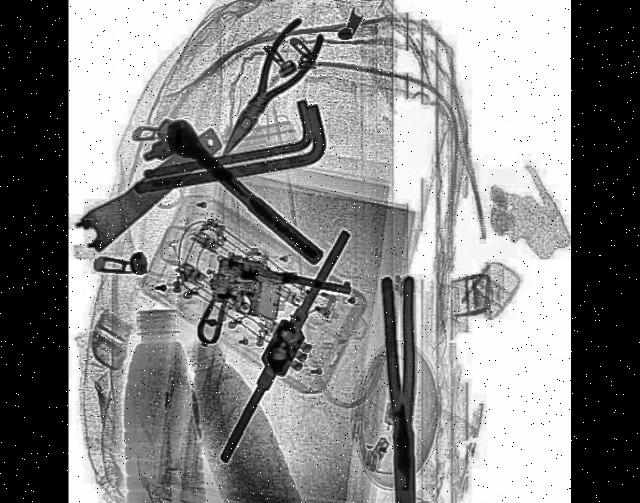Gun: (194, 251, 352, 372)
Pliers: (209, 4, 326, 173), (382, 277, 419, 503)
